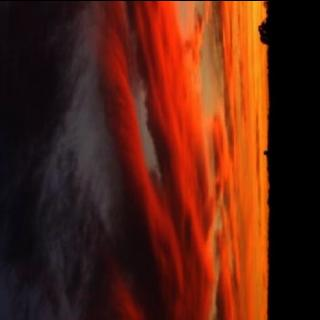Altostratus: (1, 0, 262, 320)
